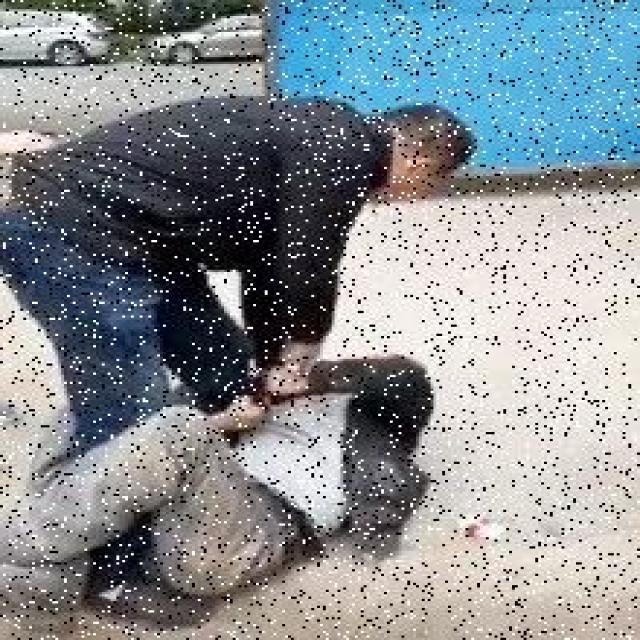fall: (23, 345, 422, 626)
